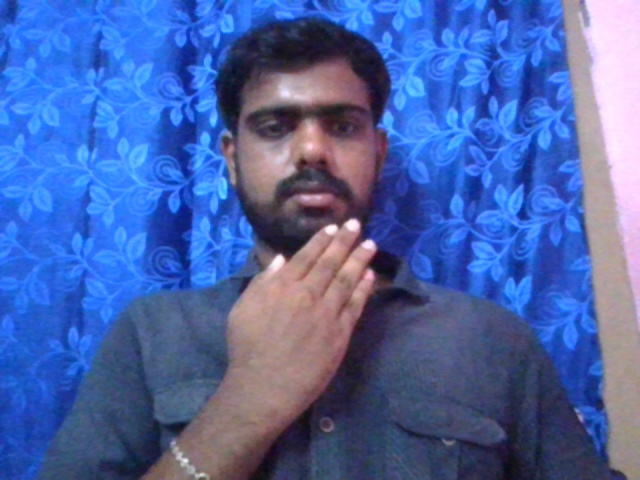Thanks: (224, 215, 377, 385)
